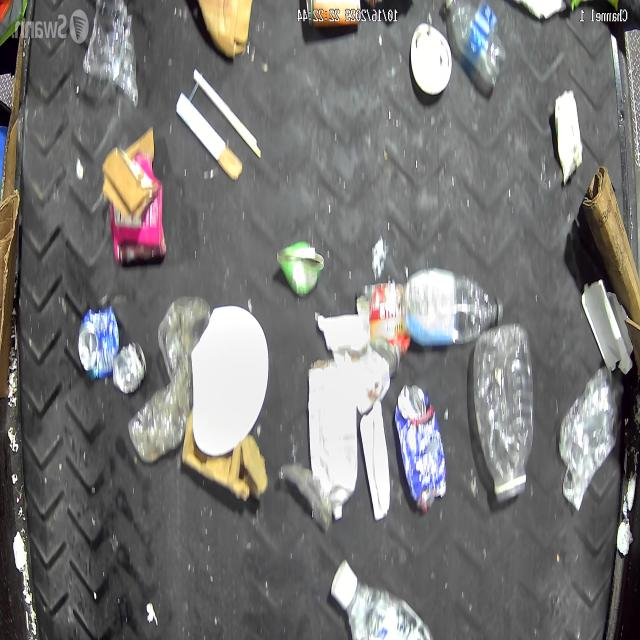can: (394, 383, 447, 513), (363, 281, 410, 378), (78, 305, 120, 380), (277, 239, 324, 298), (112, 341, 146, 395)
plastic_bottle: (128, 297, 211, 462), (472, 325, 532, 498), (557, 367, 623, 512), (331, 557, 433, 640), (407, 265, 503, 346), (84, 0, 140, 107), (443, 0, 505, 85)
